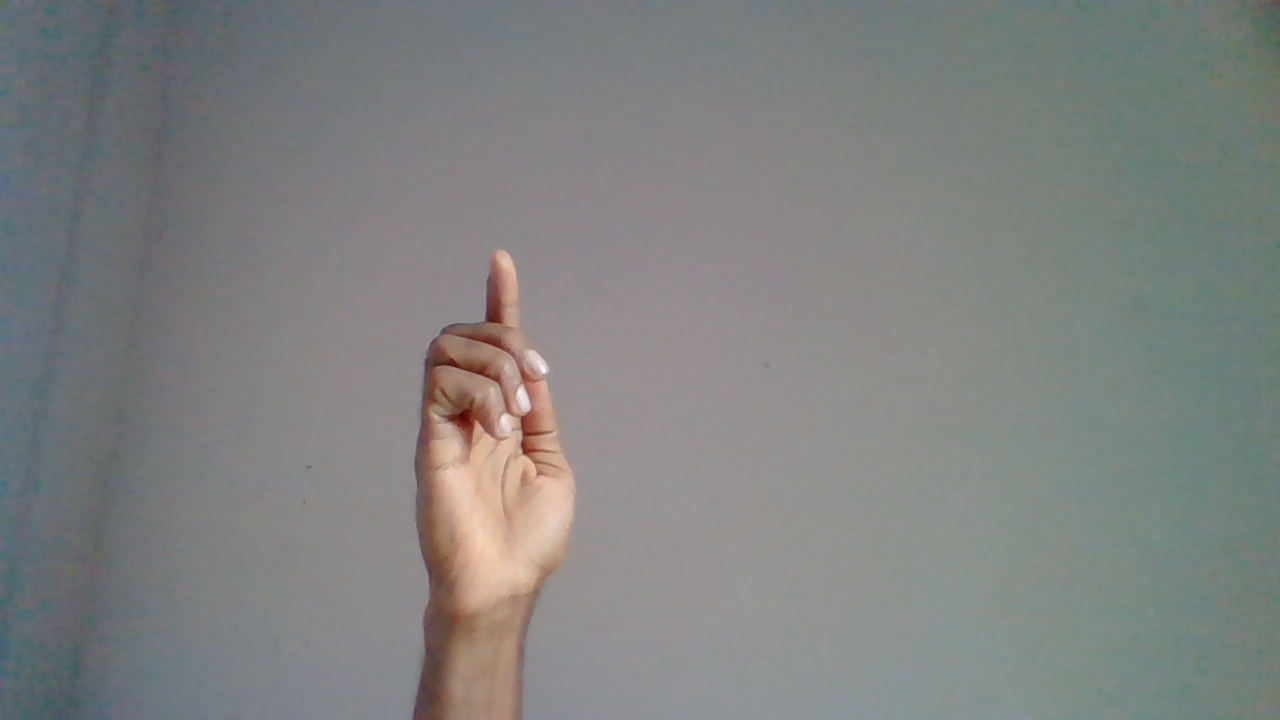qe: (413, 246, 577, 661)
